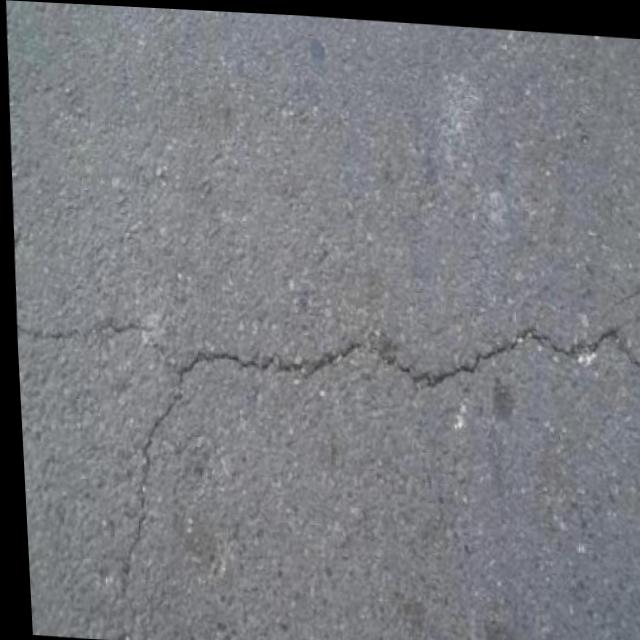Crack: (11, 258, 640, 406), (106, 361, 190, 624)
